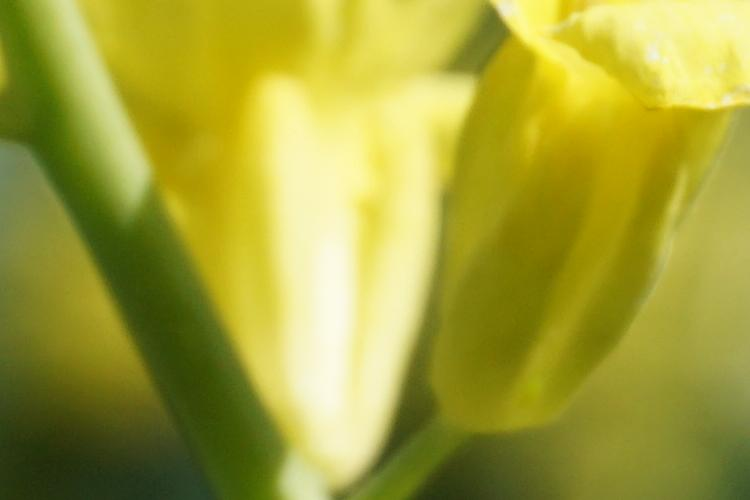yellow: (444, 14, 726, 461)
